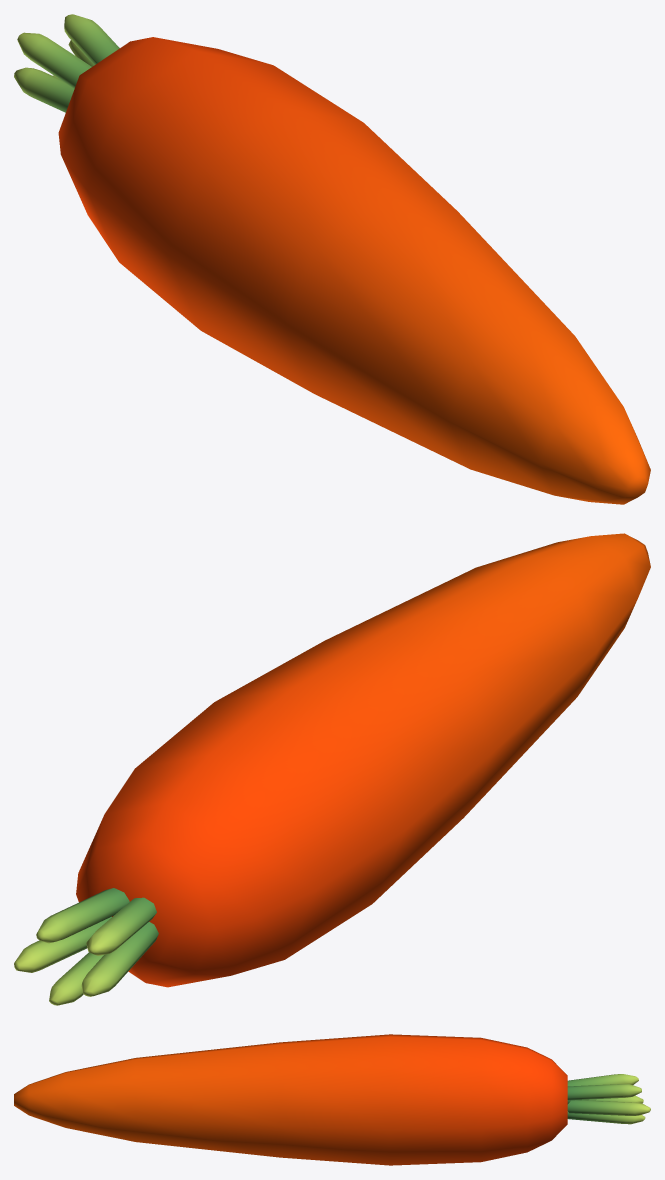
The model's file is Carrot.fbx.
The picture shows the model from 3 angles, top to bottom: view 1: azimuth 30°, elevation 25°; view 2: azimuth 150°, elevation 25°; view 3: azimuth 270°, elevation 25°; orthographic projection. The views are drawn at different scales.
Parts seen in each view (by area): view 1: Carrot; view 2: Carrot; view 3: Carrot.
Boxes of the visible parts, x1,y1,x2,y2 form: Carrot: [14, 14, 650, 504]; Carrot: [14, 533, 650, 1005]; Carrot: [14, 1034, 650, 1165].
Size of the model in its own units: 0.1088 by 0.1072 by 0.4915.
